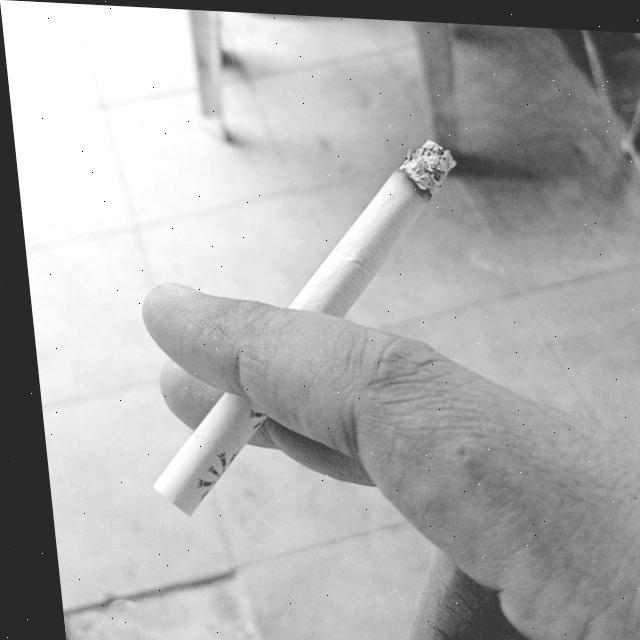cigarette: (117, 124, 481, 528)
